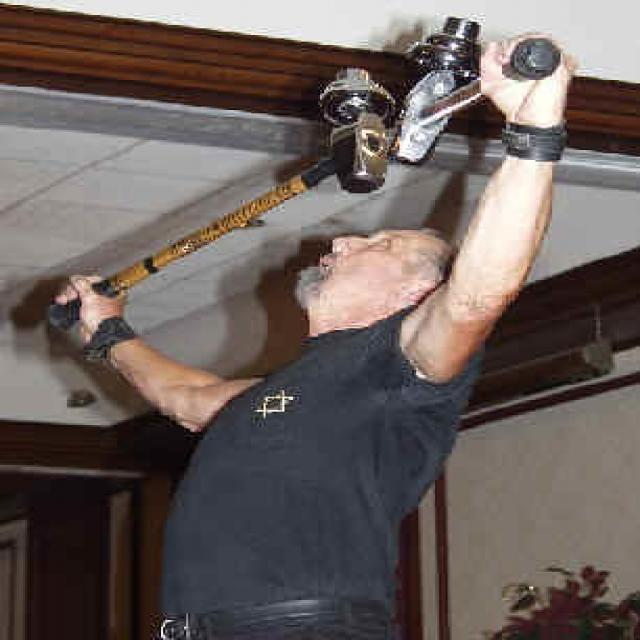hammer: (32, 109, 398, 333), (386, 24, 568, 171)
